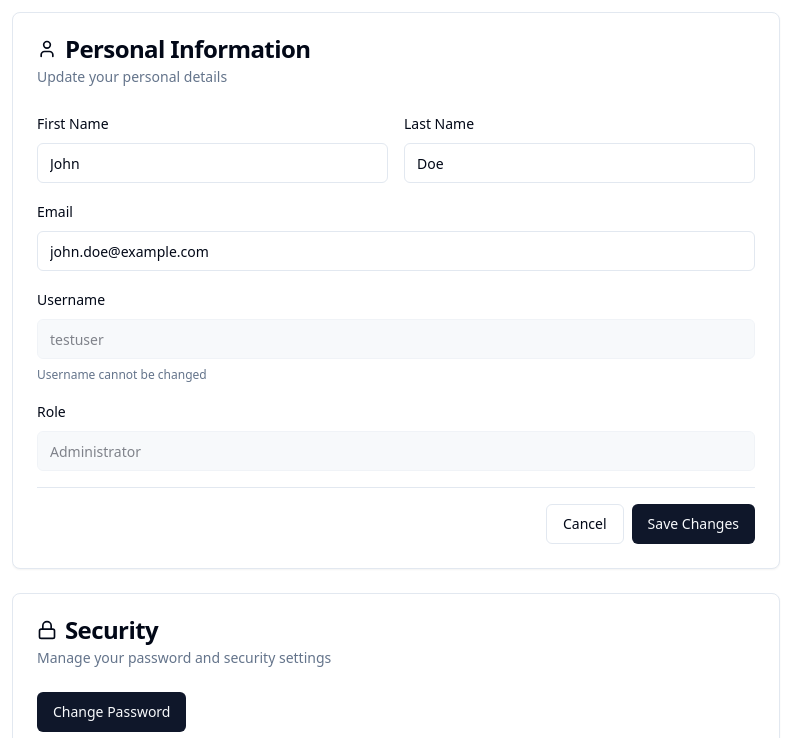
Test: ProfilePage › shows password form when change password is clicked
The image size is (797, 738).
Check: the field showing "John" is shown, box [37,143,388,183]
Click the button "Change Password" at (112, 712), box [37,692,186,732]
(page scrolled)
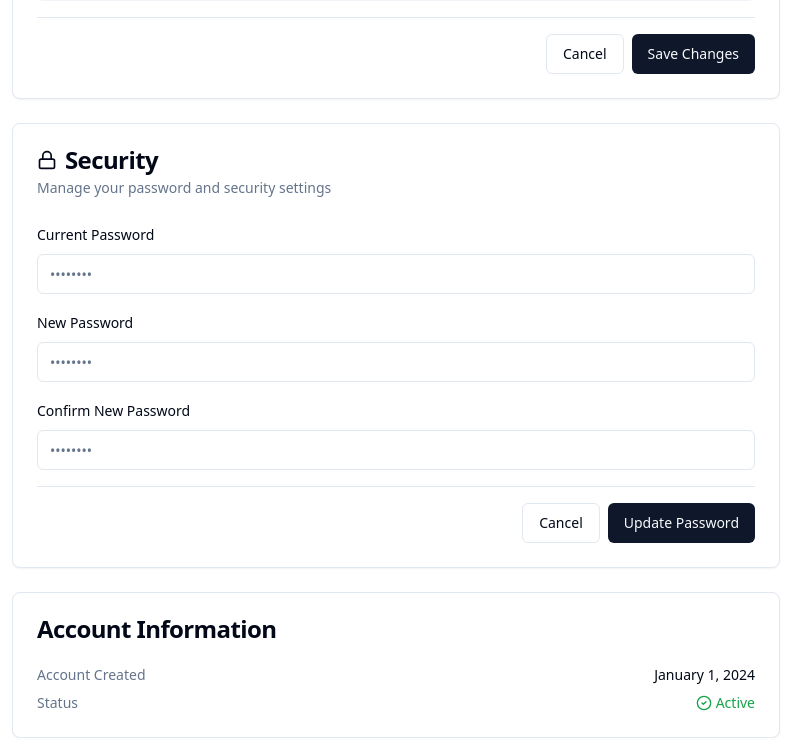
Check: the password field labelled "Current Password" is shown, box [37,254,755,294]
Check: the password field labelled "New Password" is shown, box [37,342,755,382]
Check: the password field labelled "Confirm New Password" is shown, box [37,430,755,470]
